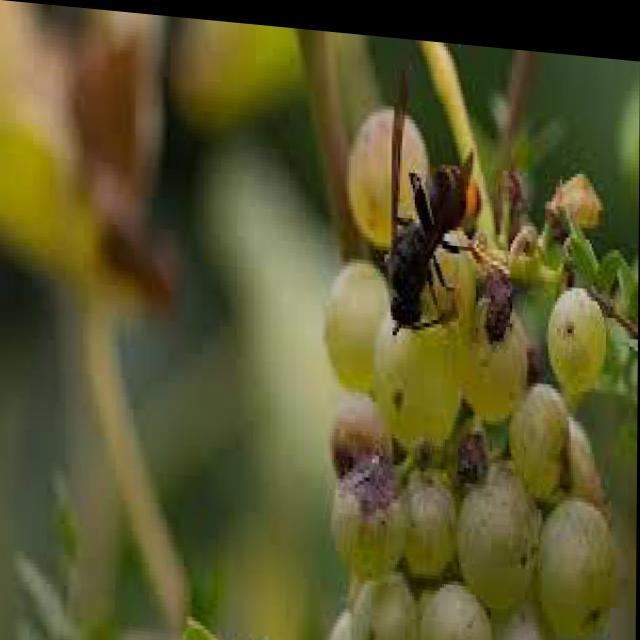Vespa Velutina: (377, 46, 512, 359)
